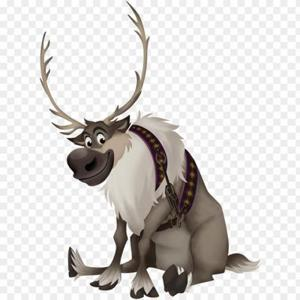sven: (32, 12, 271, 298)
